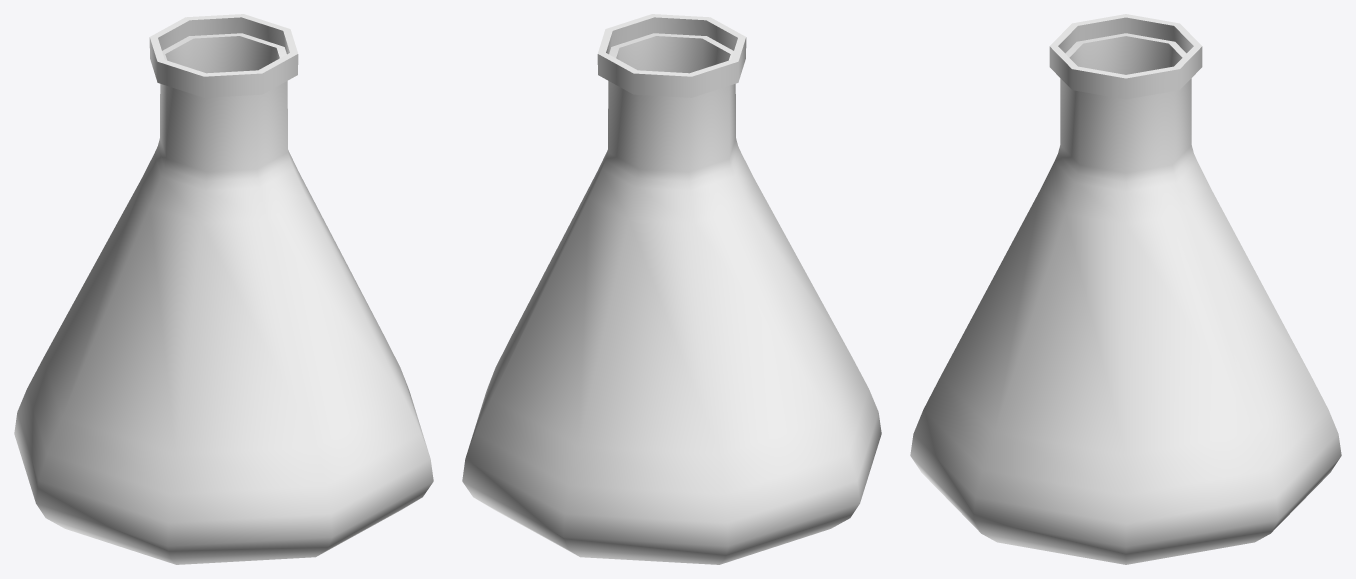
The model's file is kolba3f.glb.
3 views of the same model, side by side, from view 1: azimuth 30°, elevation 25°; view 2: azimuth 150°, elevation 25°; view 3: azimuth 270°, elevation 25° (orthographic).
Parts seen in each view (by area): view 1: kolba3.002; view 2: kolba3.002; view 3: kolba3.002.
Boxes of the visible parts, left/top/right/bottom form: kolba3.002: left=14, top=14, right=433, bottom=564; kolba3.002: left=462, top=14, right=881, bottom=564; kolba3.002: left=910, top=14, right=1341, bottom=564.
Bounding box in the file's own units: 0.1513 × 0.1787 × 0.1513.
Materials: 1 (1 with a texture image).
